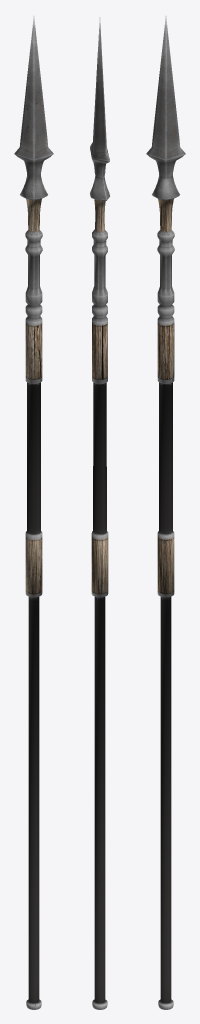
The model's file is SM_Spear_08.fbx.
The picture shows the model from 3 angles, left to right: view 1: azimuth 90°, elevation 25°; view 2: azimuth 210°, elevation 25°; view 3: azimuth 270°, elevation 25°; orthographic projection.
Parts seen in each view (by area): view 1: SM_Spear_08_LOD0; view 2: SM_Spear_08_LOD0; view 3: SM_Spear_08_LOD0.
Boxes of the visible parts, left/top/right/bottom form: SM_Spear_08_LOD0: left=14, top=16, right=53, bottom=1009; SM_Spear_08_LOD0: left=90, top=17, right=109, bottom=1009; SM_Spear_08_LOD0: left=146, top=16, right=185, bottom=1009.
Bounding box in the file's own units: 3.72 × 6.95 × 191.
1 material, 1 textured.
